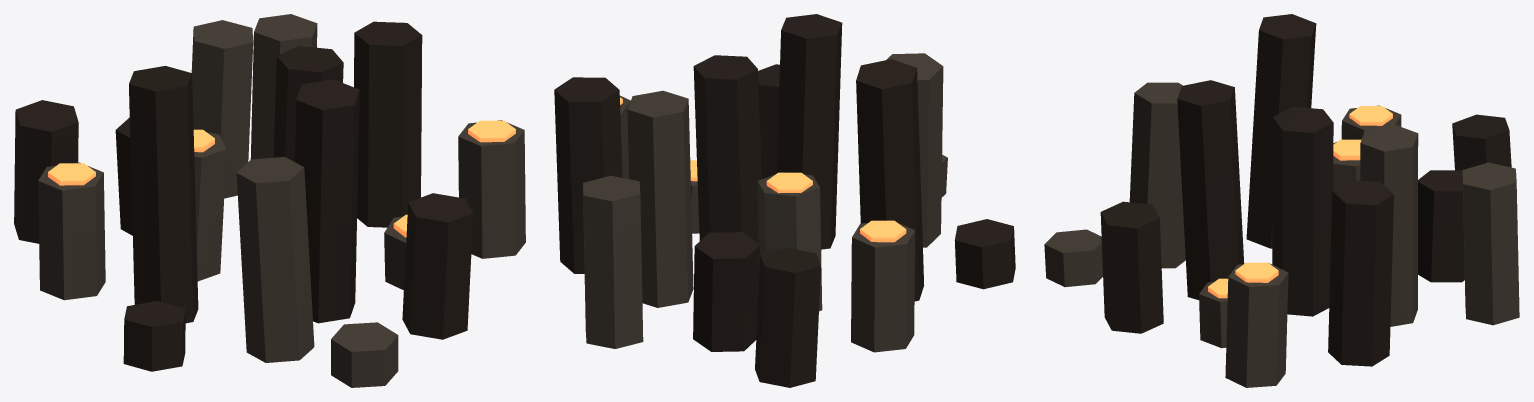
The model's file is basalt.glb.
The picture shows the model from 3 angles, left to right: view 1: azimuth 30°, elevation 25°; view 2: azimuth 150°, elevation 25°; view 3: azimuth 270°, elevation 25°; orthographic projection. The views are drawn at different scales.
Visible parts, largest first — view 1: Basalt; view 2: Basalt; view 3: Basalt.
Boxes of the visible parts, box(x1,y1,x2,y2) form: Basalt: box(14, 14, 525, 387); Basalt: box(554, 14, 1015, 387); Basalt: box(1044, 14, 1519, 387).
Size of the model in its own units: 2.46 by 1.29 by 2.62.
